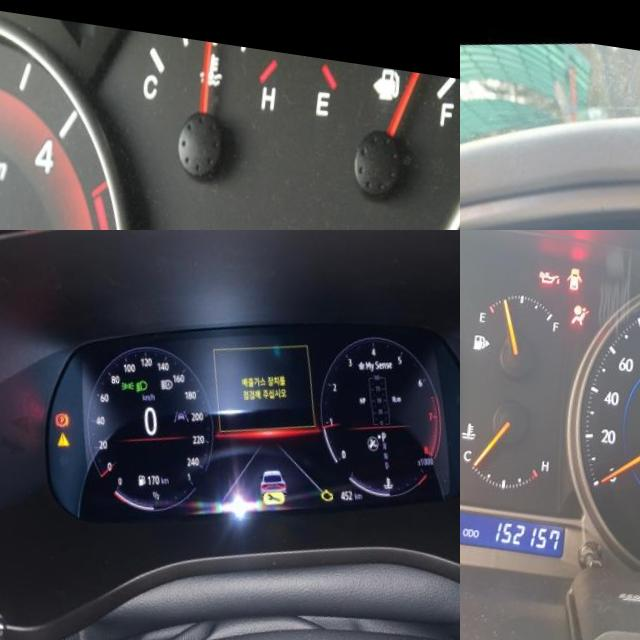Central Warning lamp: (61, 425, 79, 445)
Doors: (569, 255, 588, 281)
Low beam: (140, 371, 155, 388)
SideLamp: (126, 373, 142, 386)
